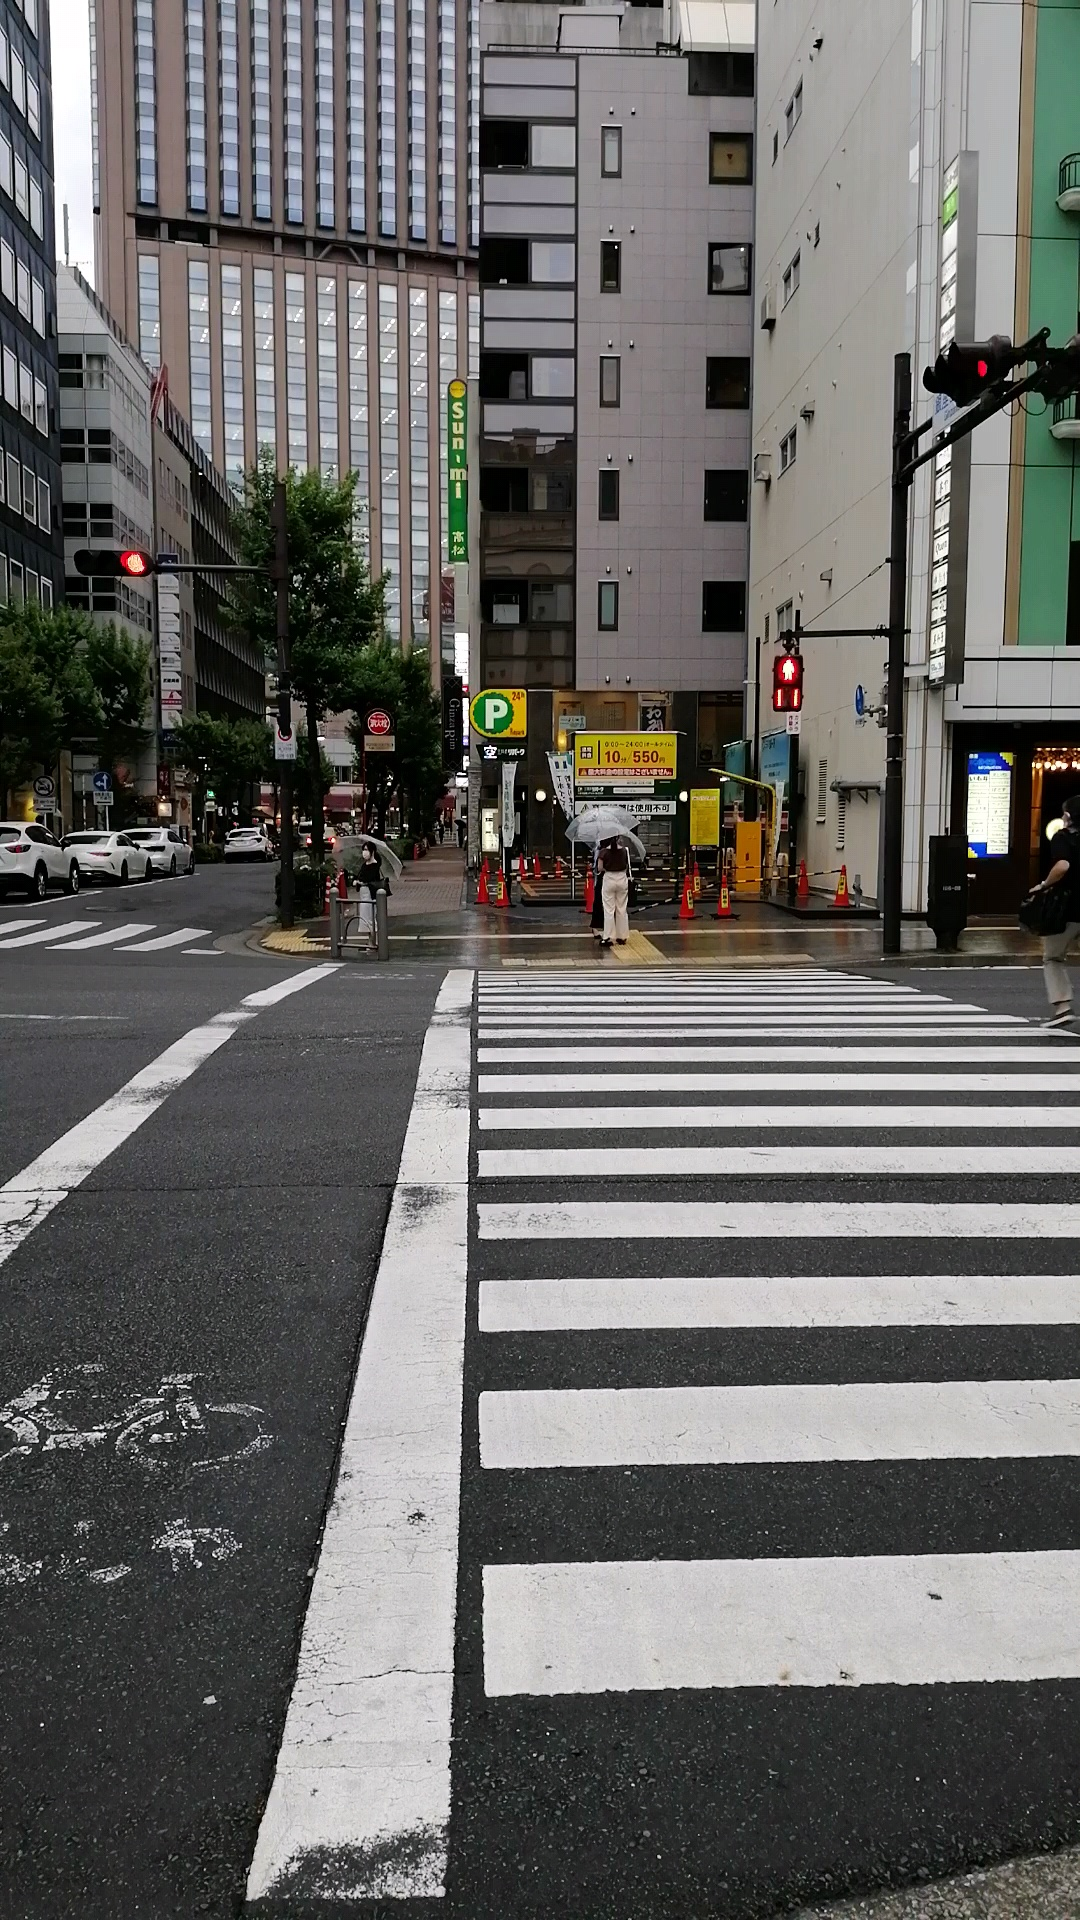red: (771, 653, 804, 713)
